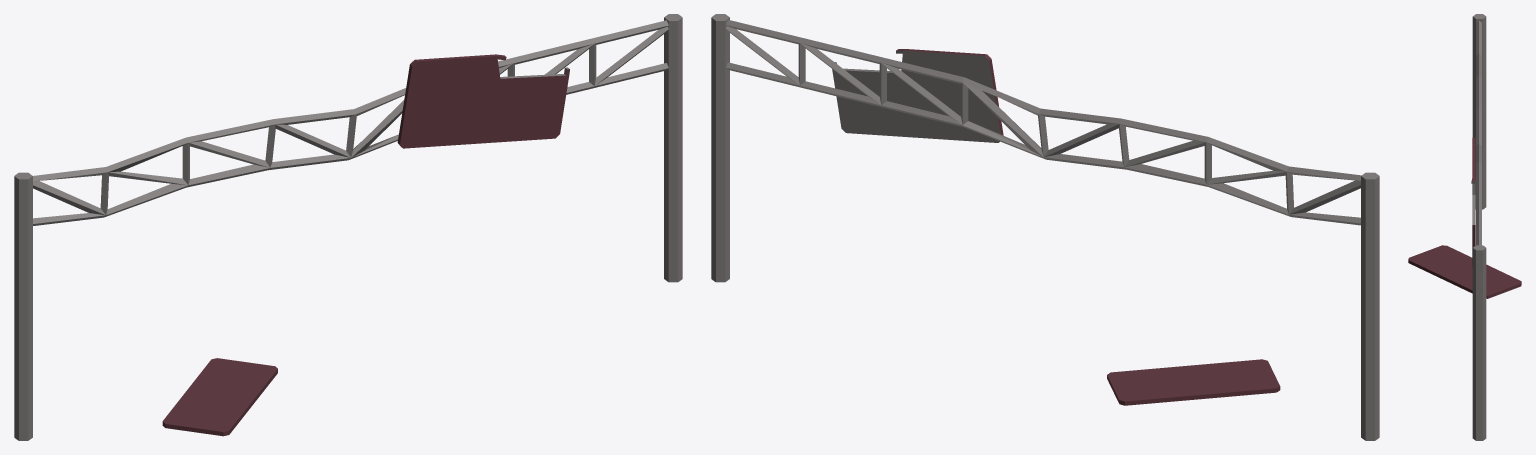
File: mainroad-sign-green-apocalypse-b.fbx
3 renders of one model, left to right at view 1: azimuth 30°, elevation 25°; view 2: azimuth 150°, elevation 25°; view 3: azimuth 270°, elevation 25°, orthographic. The views are drawn at different scales.
Visible parts, largest first — view 1: mainroad-sign-green-apocalypse-b; view 2: mainroad-sign-green-apocalypse-b; view 3: mainroad-sign-green-apocalypse-b.
Boxes of the visible parts, left/top/right/bottom form: mainroad-sign-green-apocalypse-b: left=14, top=14, right=682, bottom=440; mainroad-sign-green-apocalypse-b: left=711, top=14, right=1379, bottom=440; mainroad-sign-green-apocalypse-b: left=1408, top=14, right=1521, bottom=440.
Bounding box in the file's own units: 16.35 × 6.7 × 3.31.
